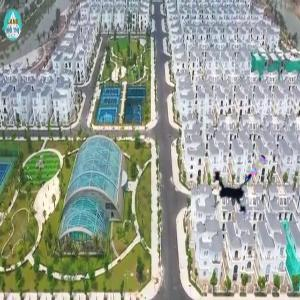drone: (197, 144, 274, 221)
